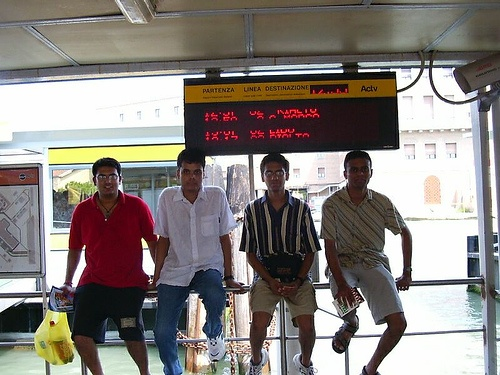head: (342, 148, 373, 195), (176, 148, 205, 193), (92, 157, 123, 199), (259, 154, 290, 196)
person: (57, 156, 159, 374), (148, 144, 243, 374), (321, 149, 411, 375), (234, 152, 321, 375)
